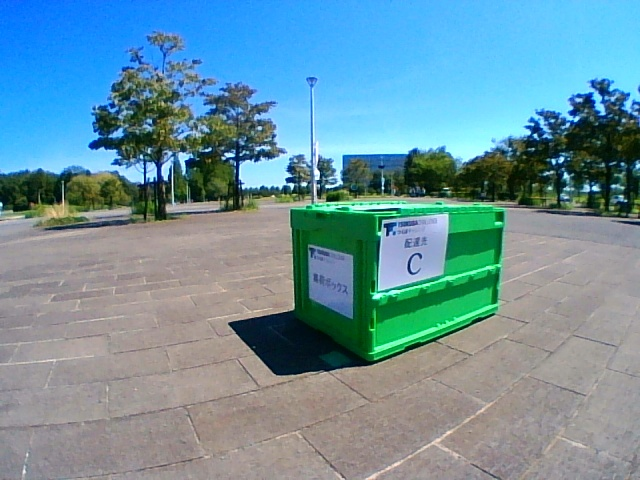green_box: (290, 200, 505, 360)
tag_c: (392, 236, 434, 277)
